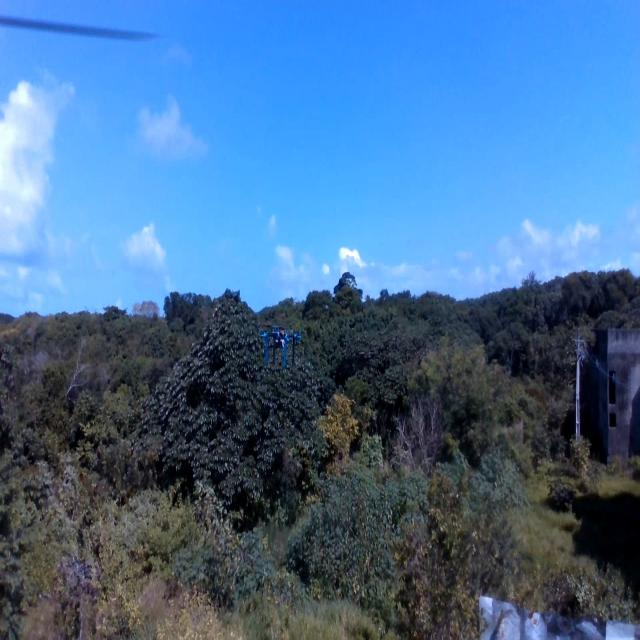-uav-: (255, 320, 306, 366)
